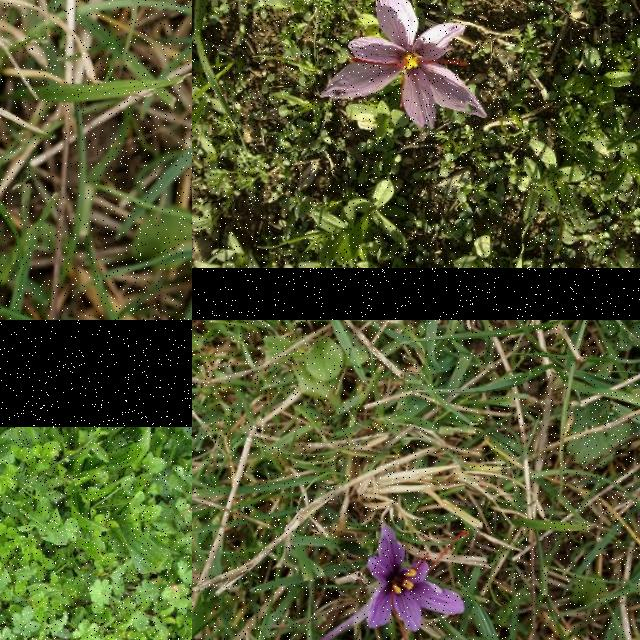flower: (318, 0, 488, 128), (366, 525, 470, 640)
